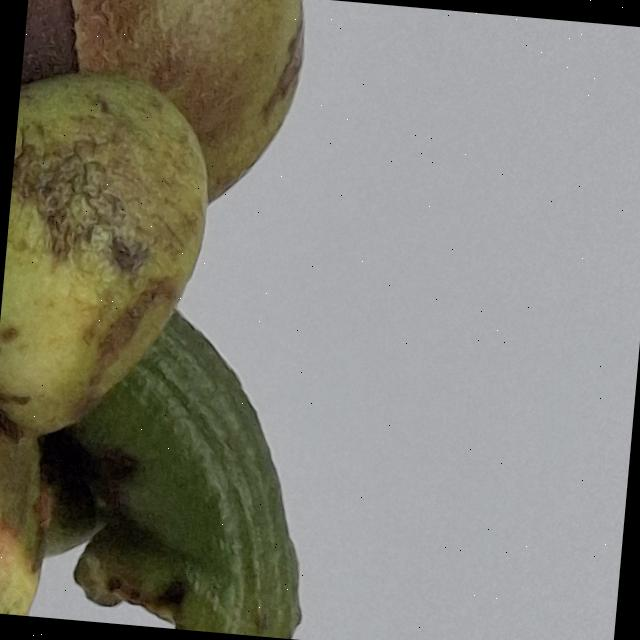mangosteen: (0, 0, 392, 640)
